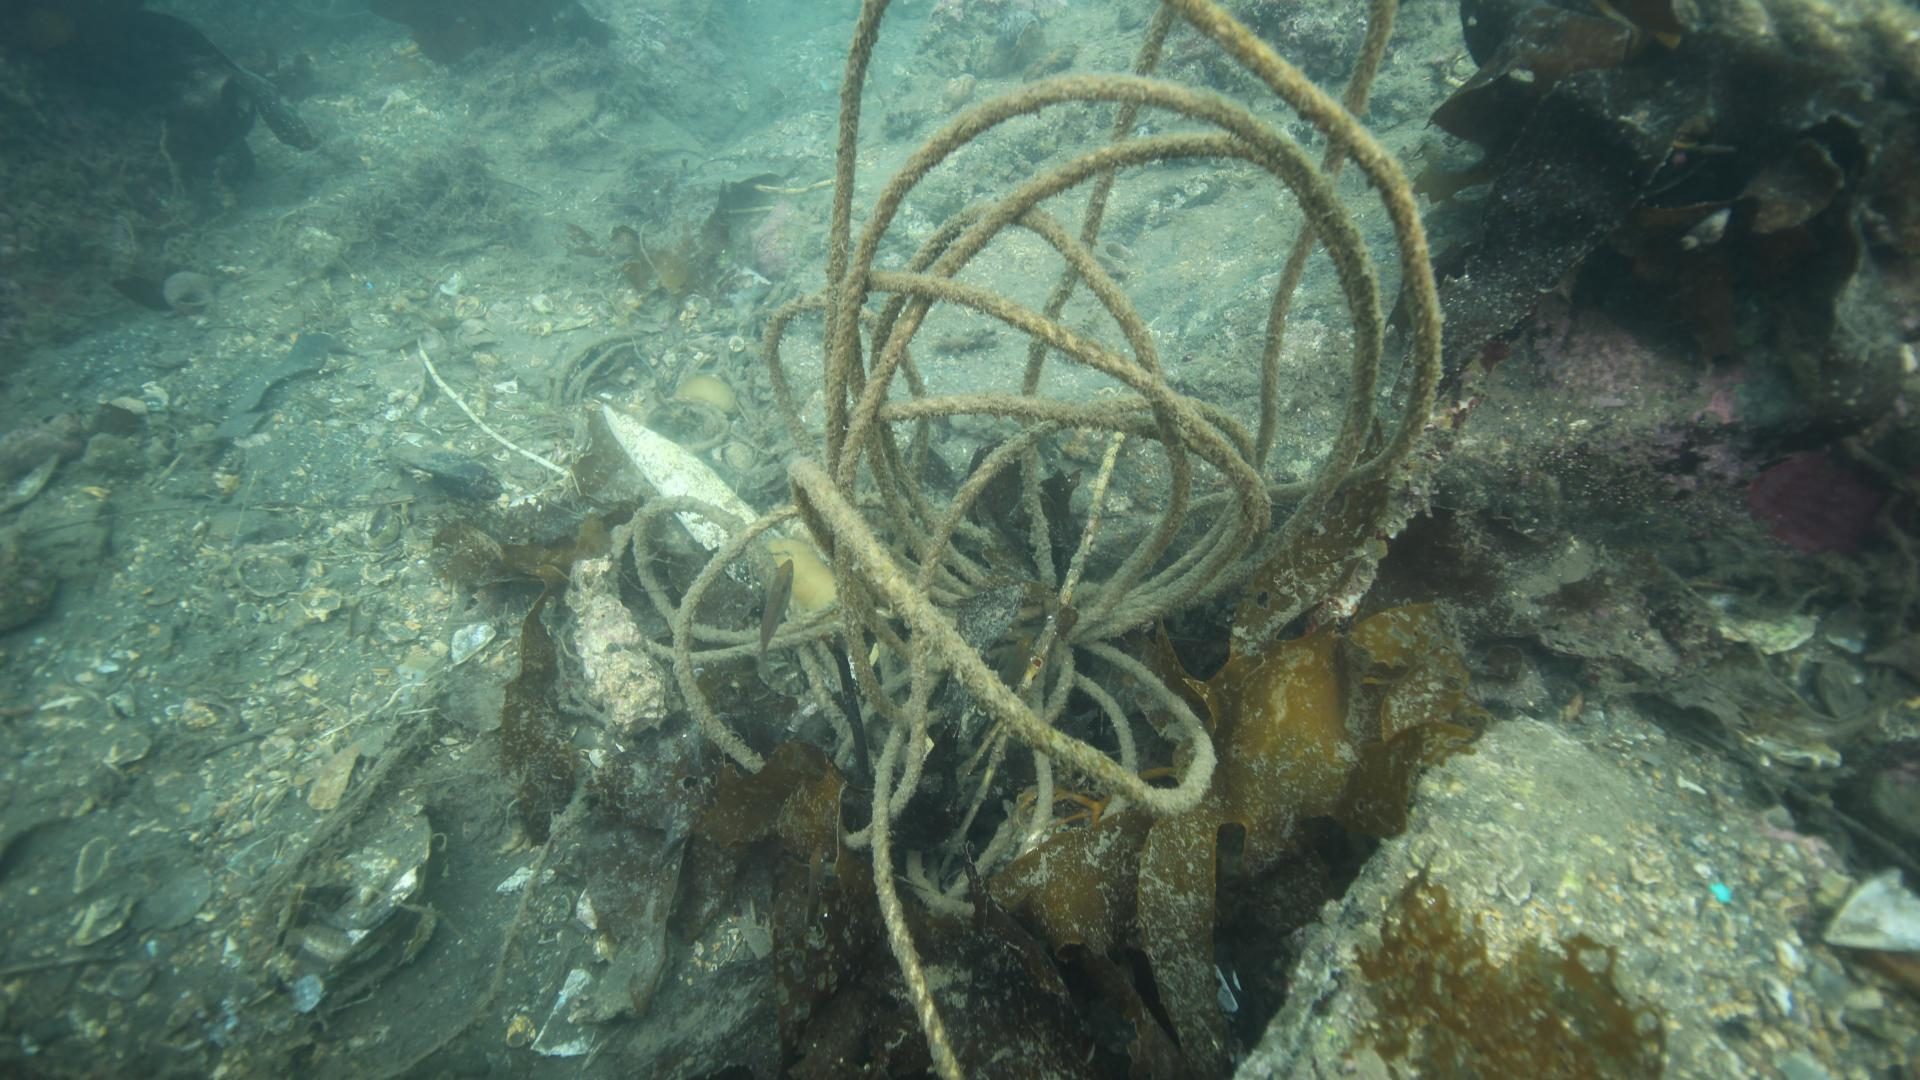bundle of ropes: (608, 0, 1452, 1080)
